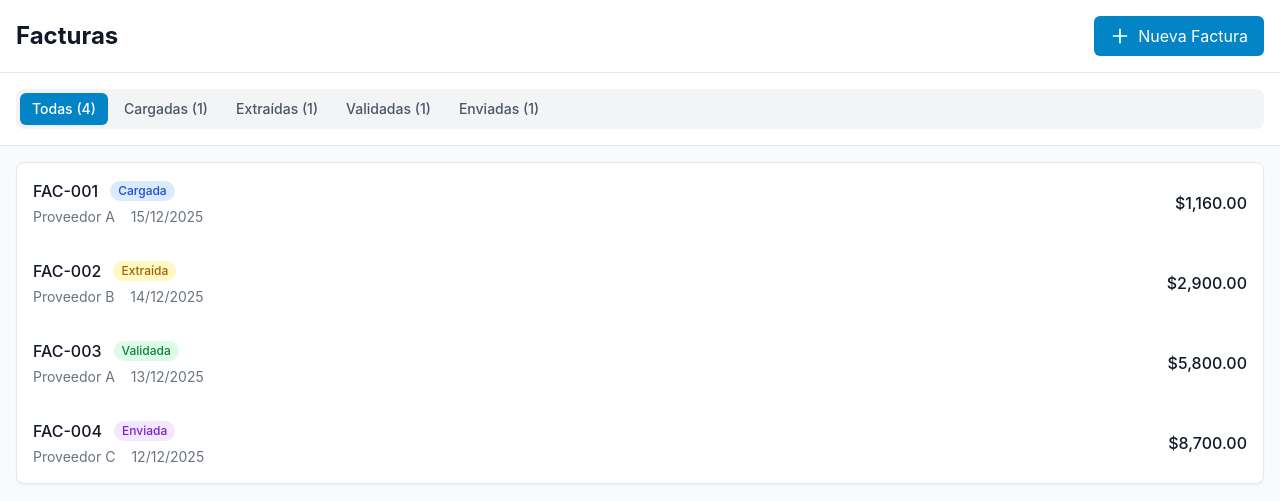
it: T030.1 - HomePage Component › T030.1.5 - Empty State › should show empty state when filter has no results
Expected: the text "FAC-001" is shown, [33, 179, 98, 203]
Step 1. Click the tab "Validadas (1)" → (388, 109), box [334, 93, 443, 125]
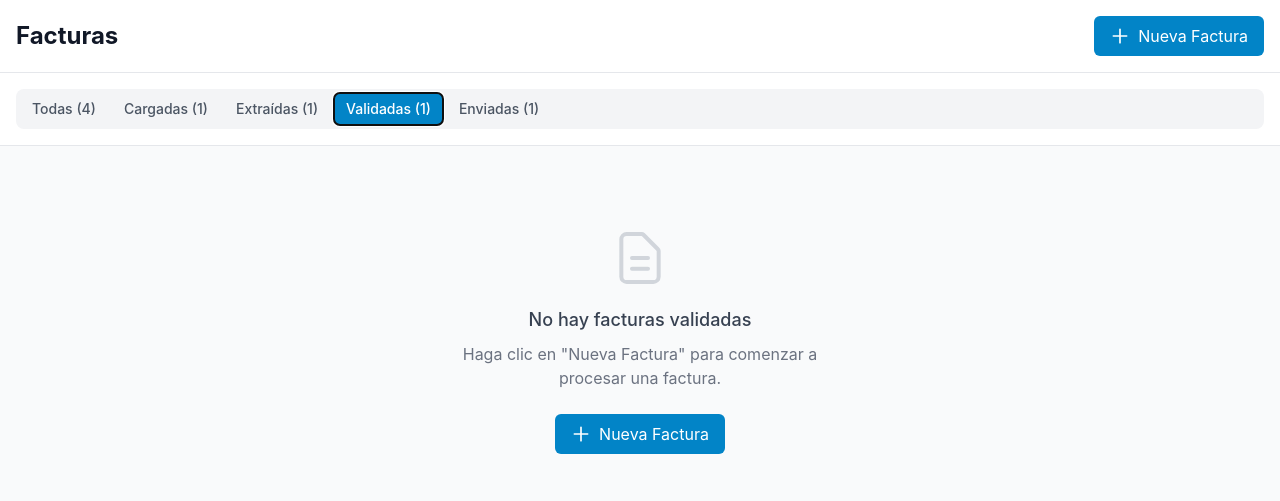
Result: the element with test id "empty-state" is shown at [463, 226, 817, 454]
Result: the heading "No hay facturas validadas" is shown at [529, 306, 751, 334]
